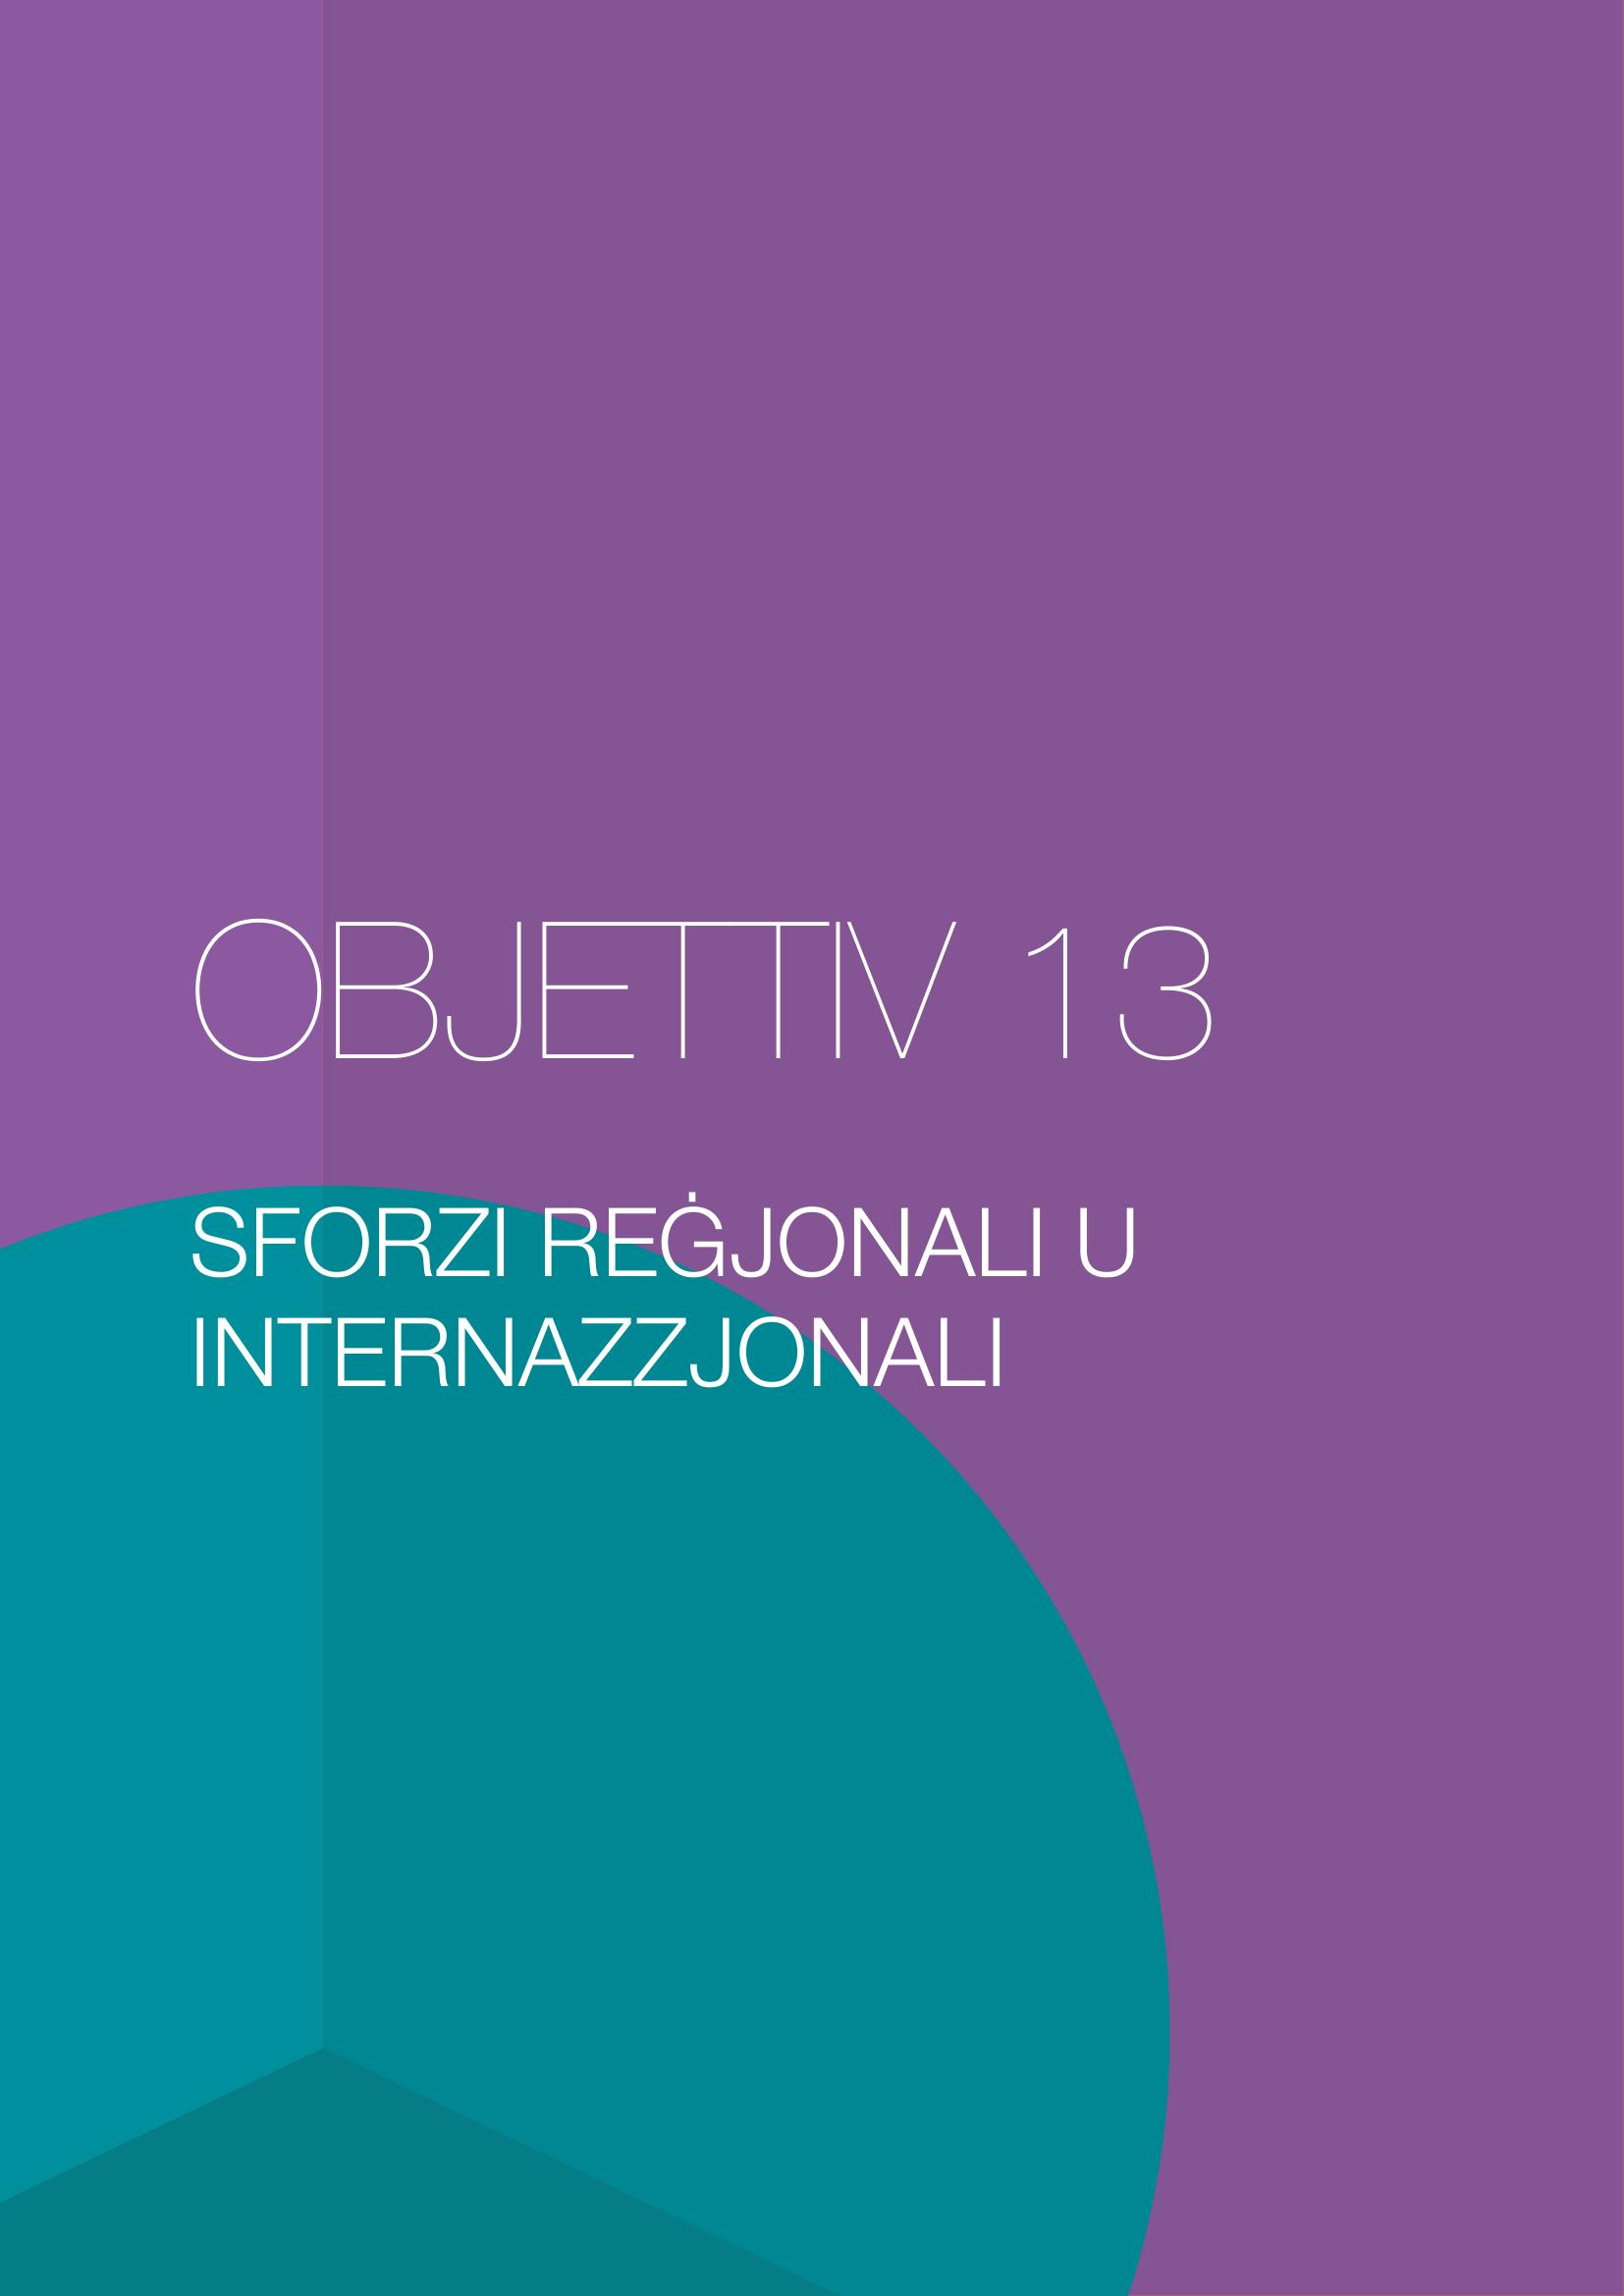text: (174, 870, 1243, 1463)
